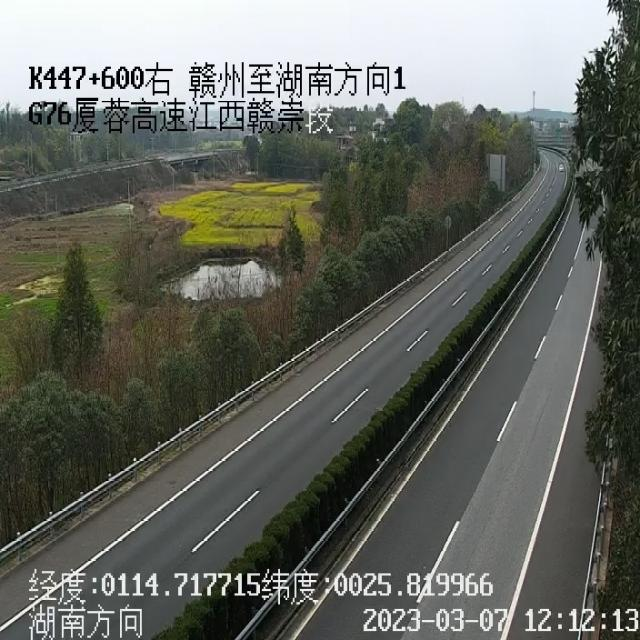cover: (564, 174, 607, 231)
point: (529, 134, 569, 171)
